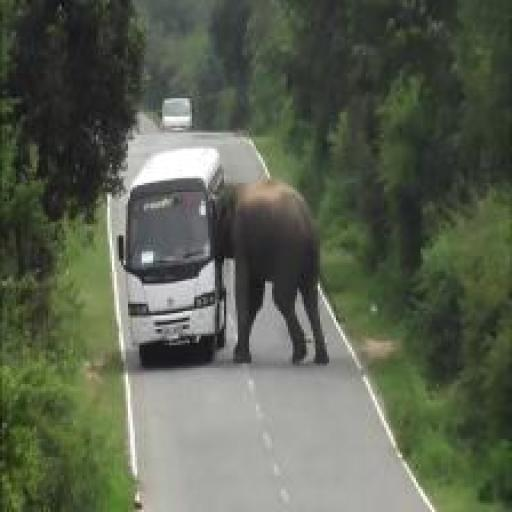Elephant: (224, 178, 330, 378)
